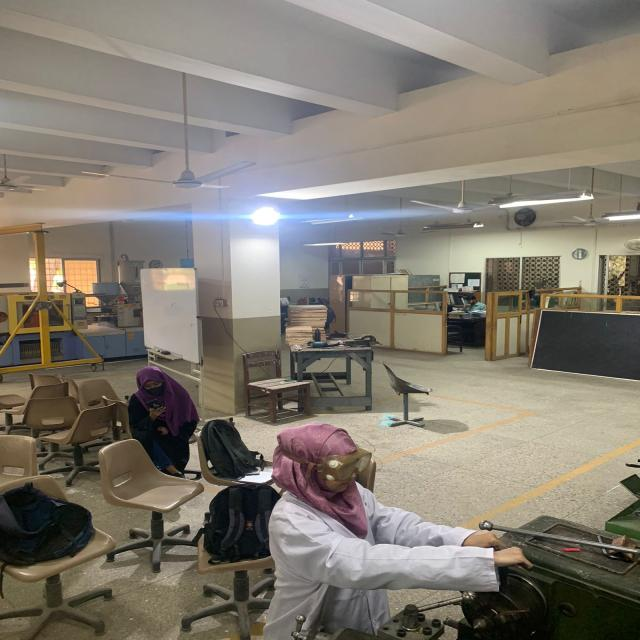googles: (325, 449, 373, 482)
labcoat: (254, 476, 503, 640)
